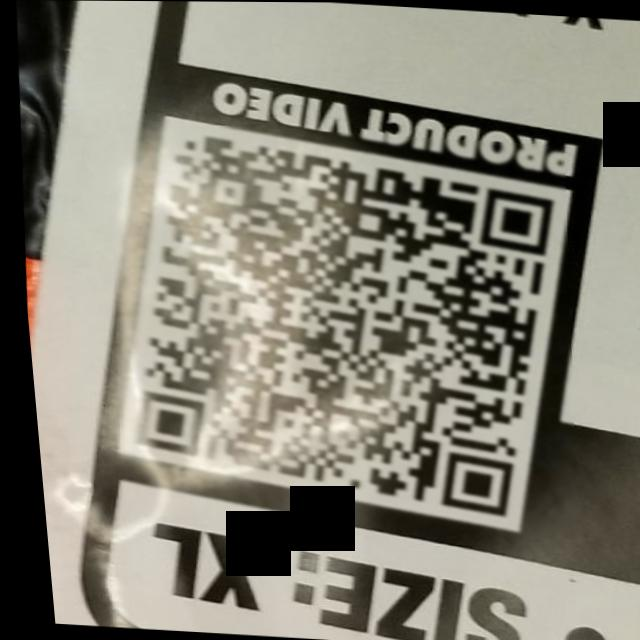QR_CODE: (86, 118, 589, 539)
